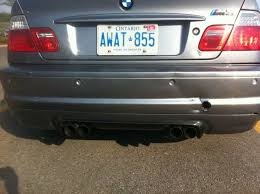Dent: (172, 82, 211, 112), (192, 47, 203, 59)
